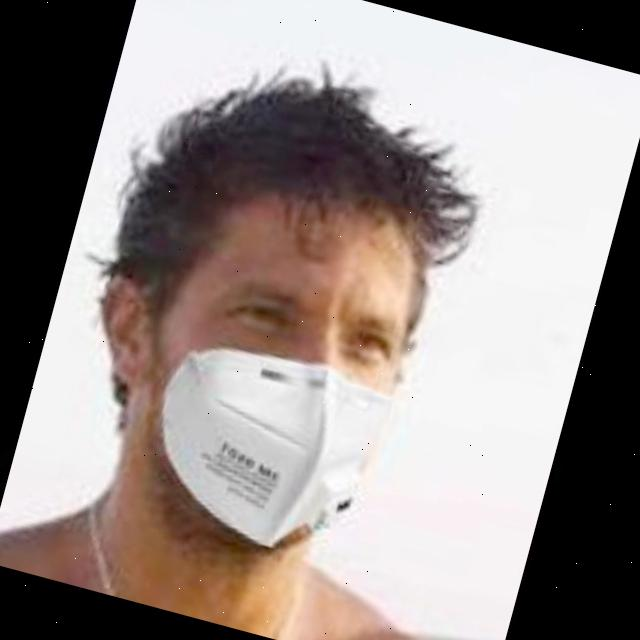suspicion: (50, 46, 507, 555)
